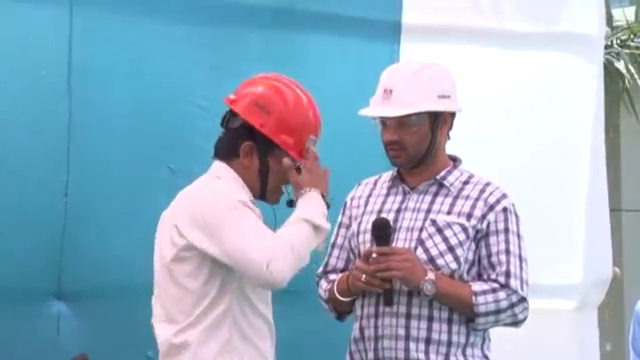helmet: (223, 70, 322, 166), (355, 60, 464, 119)
helmet_on: (210, 68, 324, 206), (352, 58, 464, 184)
person: (316, 58, 531, 360), (147, 71, 331, 360)
